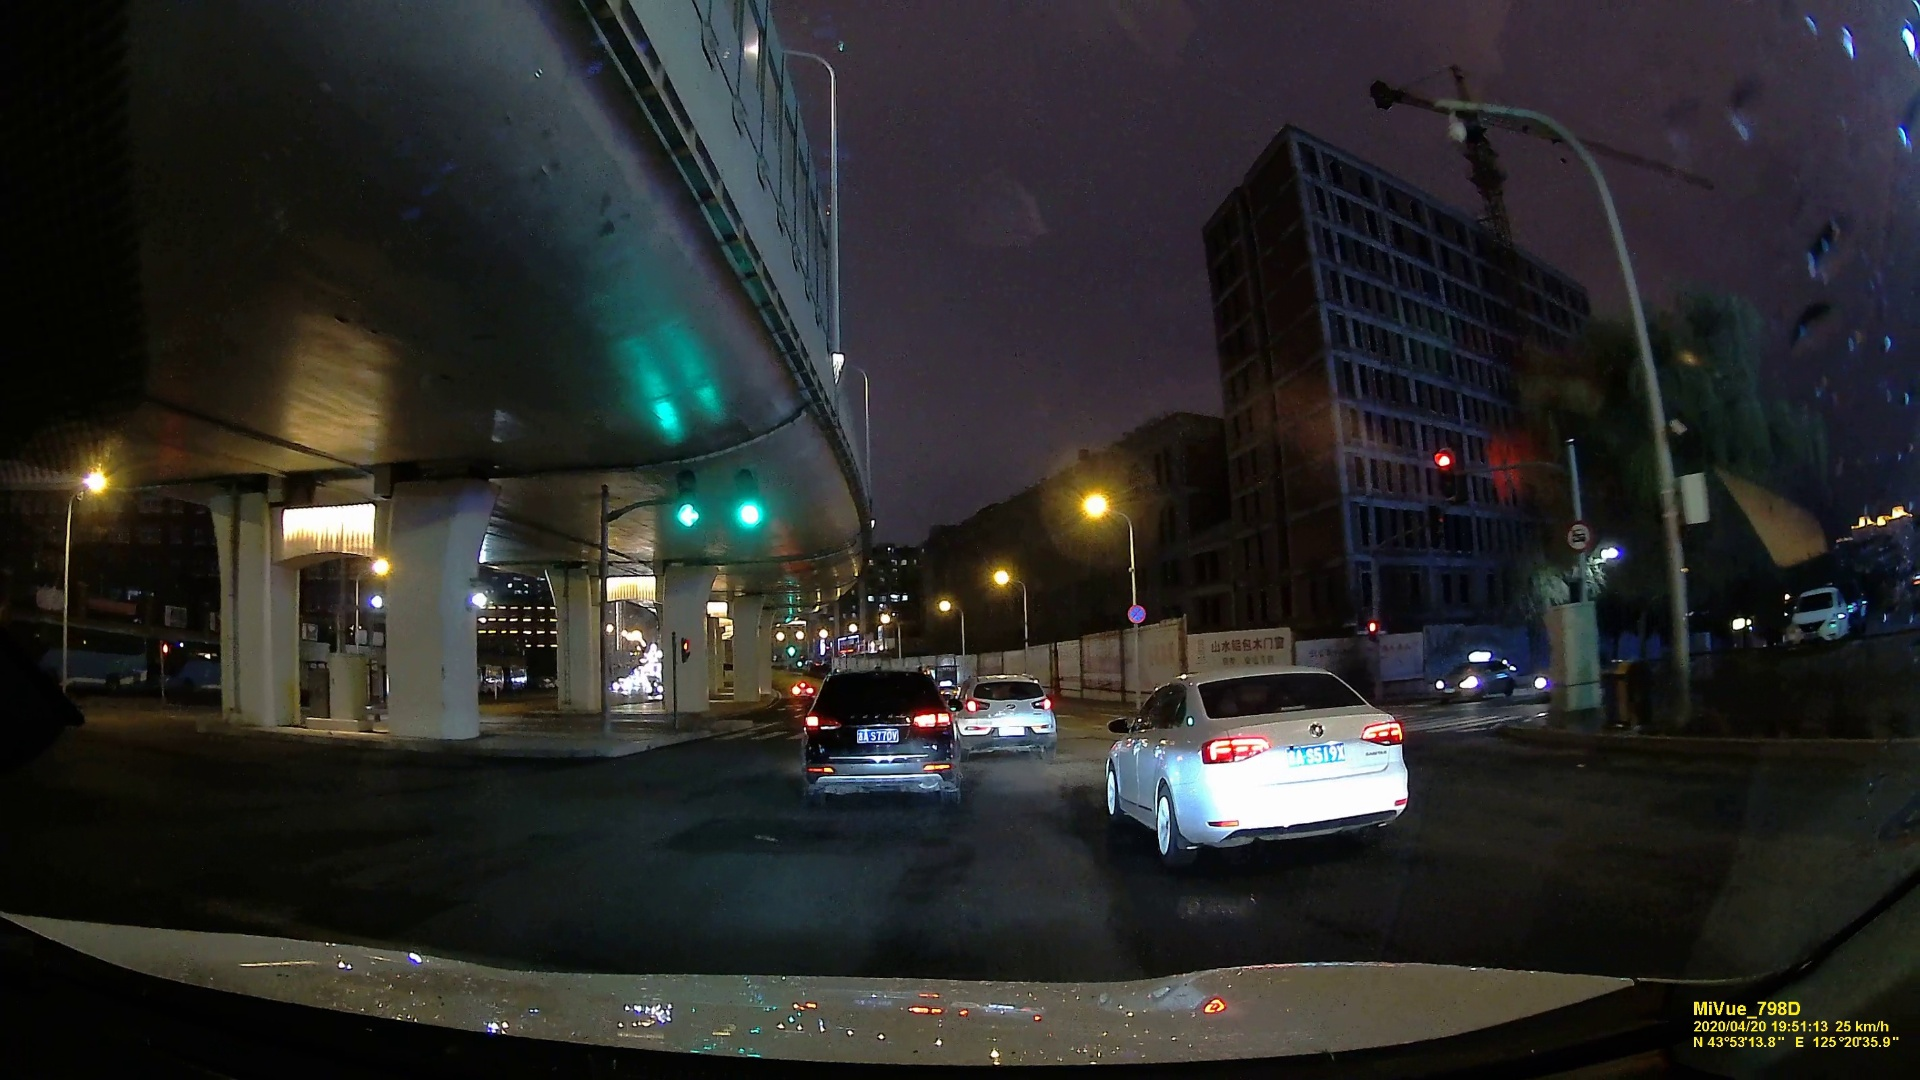minibus: (680, 636, 692, 665)
traffic_sign: (731, 484, 767, 534), (673, 480, 704, 531), (1571, 524, 1590, 550), (1129, 604, 1147, 626)
vehicle: (1102, 662, 1414, 858), (795, 665, 963, 806), (953, 673, 1059, 760), (1429, 658, 1518, 702)
